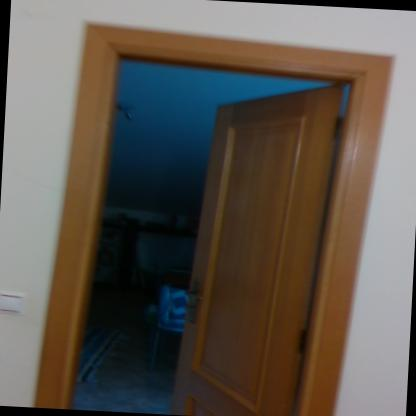semi: (40, 8, 379, 415)
